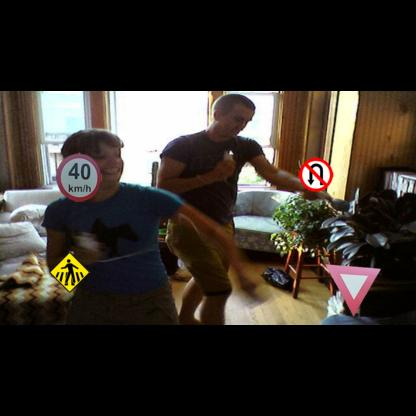A-32b: (49, 252, 90, 293)
R-19: (56, 153, 101, 202)
R-2: (325, 264, 381, 316)
R-5a: (299, 158, 333, 191)
